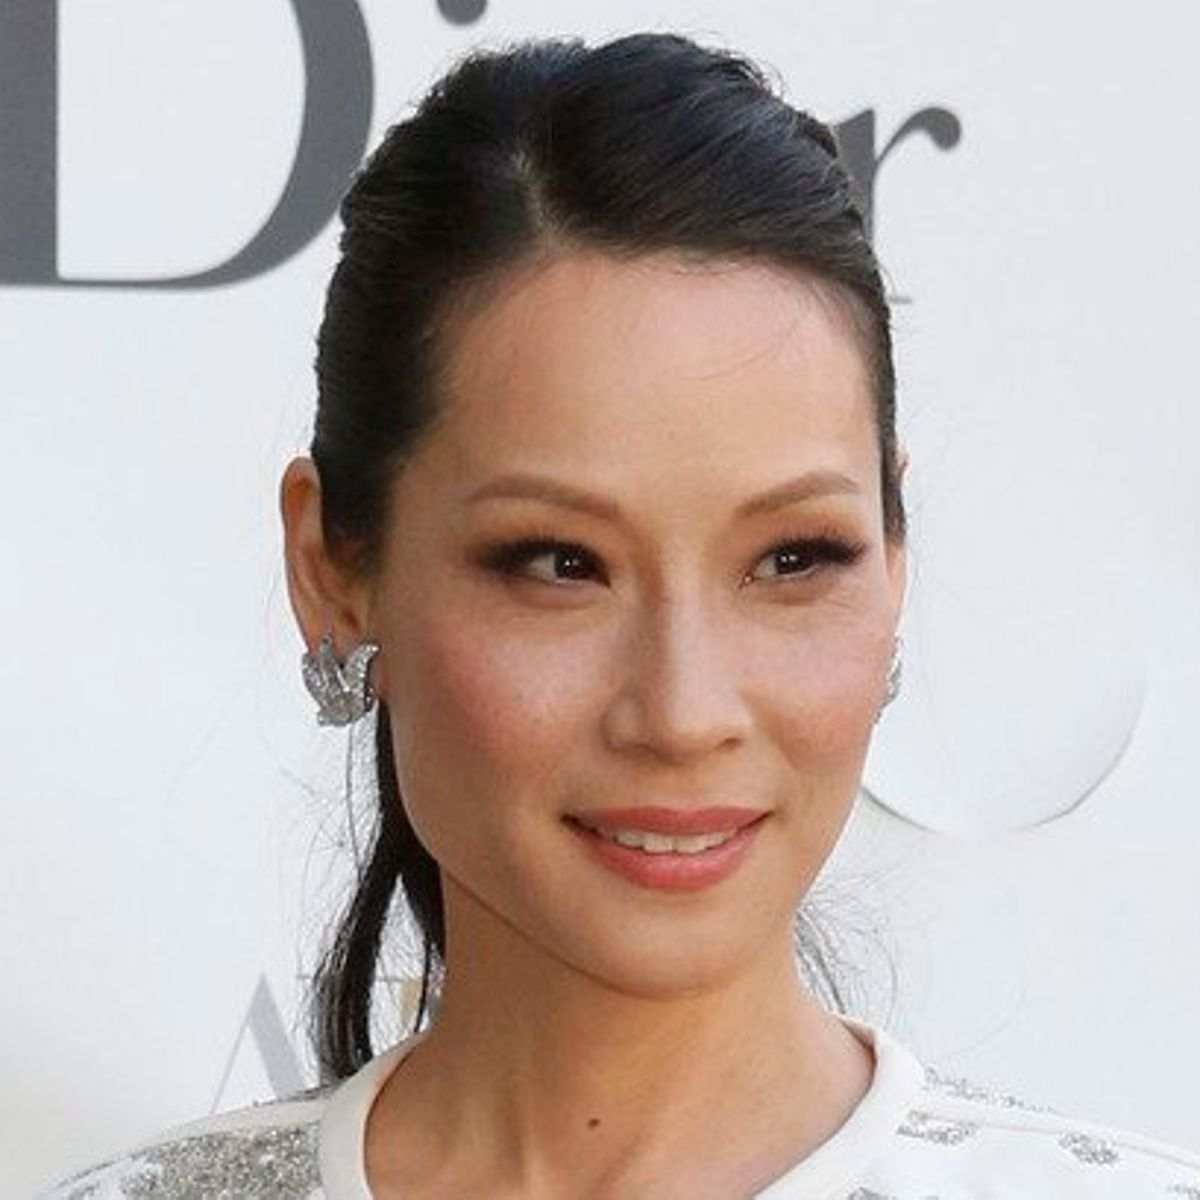bare: (370, 583, 916, 991)
